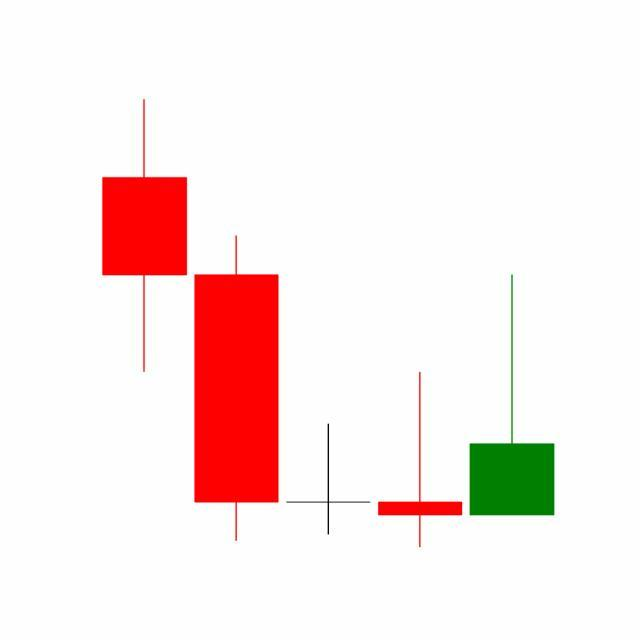Spinning Top: (374, 370, 468, 551)
